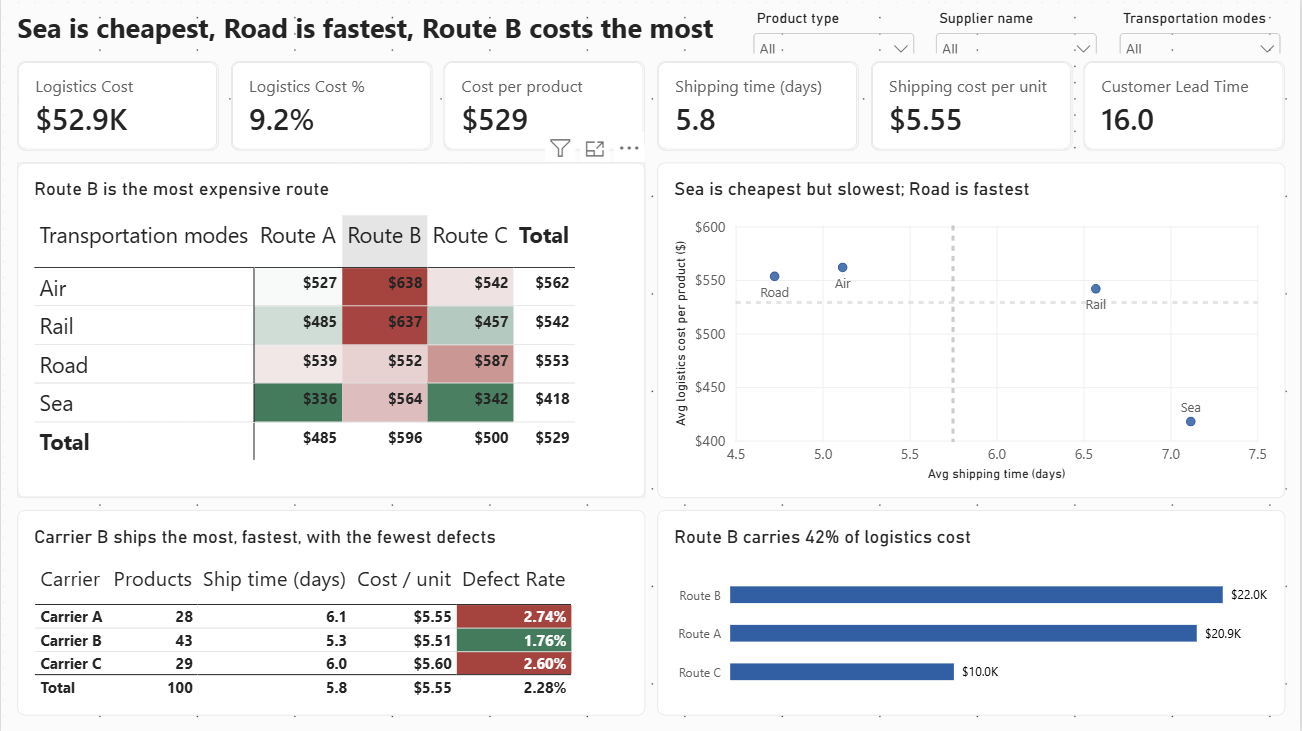

This screenshot's page, from the dashboard's own definition file:
{"tool":"powerbi","page":{"name":"Logistics","canvas":[1280,720],"ordinal":2},"visuals":[{"type":"textbox","box":[16,8,700,44],"z":0},{"type":"slicer","fields":{"Values":["SupplyChain.Product type"]},"box":[736,8,168,44],"z":1000},{"type":"slicer","fields":{"Values":["SupplyChain.Supplier name"]},"box":[916,8,168,44],"z":2000},{"type":"slicer","fields":{"Values":["SupplyChain.Transportation modes"]},"box":[1096,8,168,44],"z":3000},{"type":"cardVisual","fields":{"Data":["_Measures.Logistics Cost"]},"box":[16,60,198,88],"z":4000},{"type":"cardVisual","fields":{"Data":["_Measures.Logistics Cost %"]},"box":[226,60,198,88],"z":5000},{"type":"cardVisual","fields":{"Data":["_Measures.Avg Cost per SKU"]},"box":[436,60,198,88],"z":6000},{"type":"cardVisual","fields":{"Data":["_Measures.Avg Shipping Cost"]},"box":[856,60,198,88],"z":7000},{"type":"cardVisual","fields":{"Data":["_Measures.Avg Shipping Time"]},"box":[646,60,198,88],"z":8000},{"type":"cardVisual","fields":{"Data":["_Measures.Avg Customer Lead Time"]},"box":[1066,60,198,88],"z":9000},{"type":"scatterChart","title":"Sea is cheapest but slowest; Road is fastest","fields":{"Category":["SupplyChain.Transportation modes"],"X":["_Measures.Avg Shipping Time"],"Y":["_Measures.Avg Cost per SKU"]},"box":[646,160,618,330],"z":10000},{"type":"pivotTable","title":"Route B is the most expensive route","fields":{"Columns":["SupplyChain.Routes"],"Rows":["SupplyChain.Transportation modes"],"Values":["_Measures.Avg Cost per SKU"]},"box":[16,160,618,330],"z":11000},{"type":"tableEx","title":"Carrier B ships the most, fastest, with the fewest defects","fields":{"Values":["SupplyChain.Shipping carriers","_Measures.SKU Count","_Measures.Avg Shipping Time","_Measures.Avg Shipping Cost","_Measures.Avg Defect Rate"]},"box":[16,502,618,202],"z":12000},{"type":"clusteredBarChart","title":"Route B carries 42% of logistics cost","fields":{"Category":["SupplyChain.Routes"],"Y":["_Measures.Logistics Cost"]},"box":[646,502,618,202],"z":13000}]}

Visuals, with their boxes in screenshot pixels (x1, y1, x2, y2), scaled from the page's 1280x720 canvas onto the 1302x731 screenshot:
textbox: [16, 8, 728, 53]
slicer - SupplyChain.Product type: [749, 8, 920, 53]
slicer - SupplyChain.Supplier name: [932, 8, 1103, 53]
slicer - SupplyChain.Transportation modes: [1115, 8, 1286, 53]
cardVisual - _Measures.Logistics Cost: [16, 61, 218, 150]
cardVisual - _Measures.Logistics Cost %: [230, 61, 431, 150]
cardVisual - _Measures.Avg Cost per SKU: [443, 61, 645, 150]
cardVisual - _Measures.Avg Shipping Cost: [871, 61, 1072, 150]
cardVisual - _Measures.Avg Shipping Time: [657, 61, 859, 150]
cardVisual - _Measures.Avg Customer Lead Time: [1084, 61, 1286, 150]
"Sea is cheapest but slowest; Road is fastest" scatterChart: [657, 162, 1286, 497]
"Route B is the most expensive route" pivotTable: [16, 162, 645, 497]
"Carrier B ships the most, fastest, with the fewest defects" tableEx: [16, 510, 645, 715]
"Route B carries 42% of logistics cost" clusteredBarChart: [657, 510, 1286, 715]
